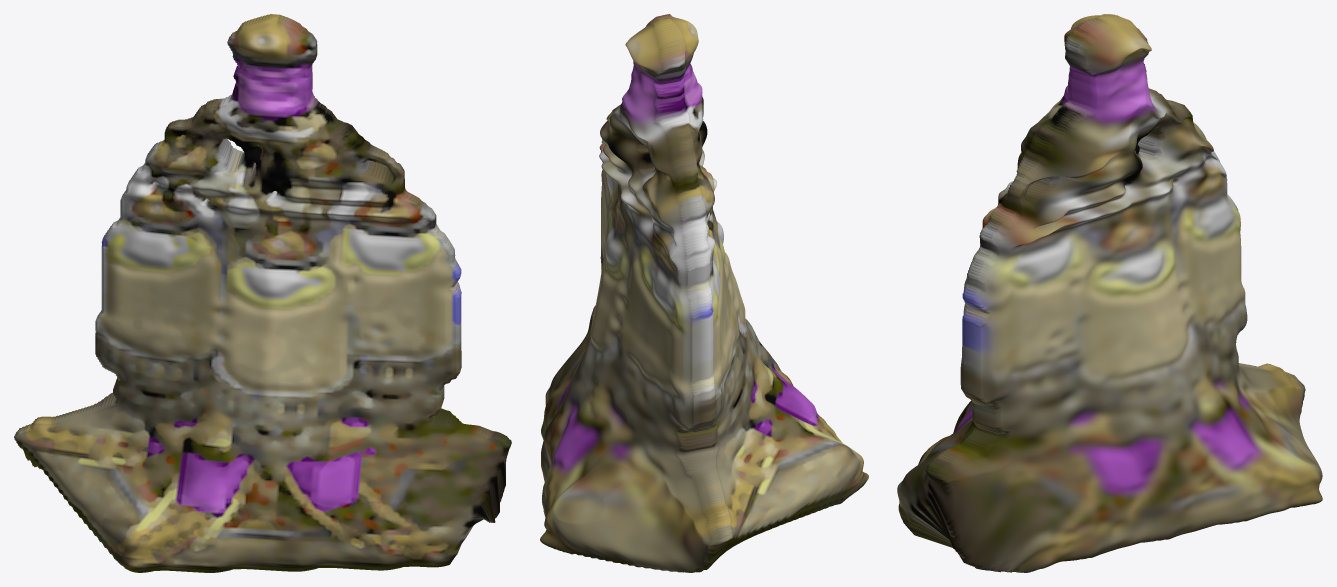
File: yuri_bio_reactor.glb
3 views of the same model, side by side, from view 1: azimuth 30°, elevation 25°; view 2: azimuth 150°, elevation 25°; view 3: azimuth 270°, elevation 25° (orthographic). The views are drawn at different scales.
Visible parts, largest first — view 1: yuri_bio_reactor; view 2: yuri_bio_reactor; view 3: yuri_bio_reactor.
Boxes of the visible parts, left/top/right/bottom form: yuri_bio_reactor: left=14, top=14, right=511, bottom=572; yuri_bio_reactor: left=540, top=14, right=868, bottom=572; yuri_bio_reactor: left=897, top=14, right=1322, bottom=572.
Bounding box in the file's own units: 1.16 × 1.61 × 1.29.
